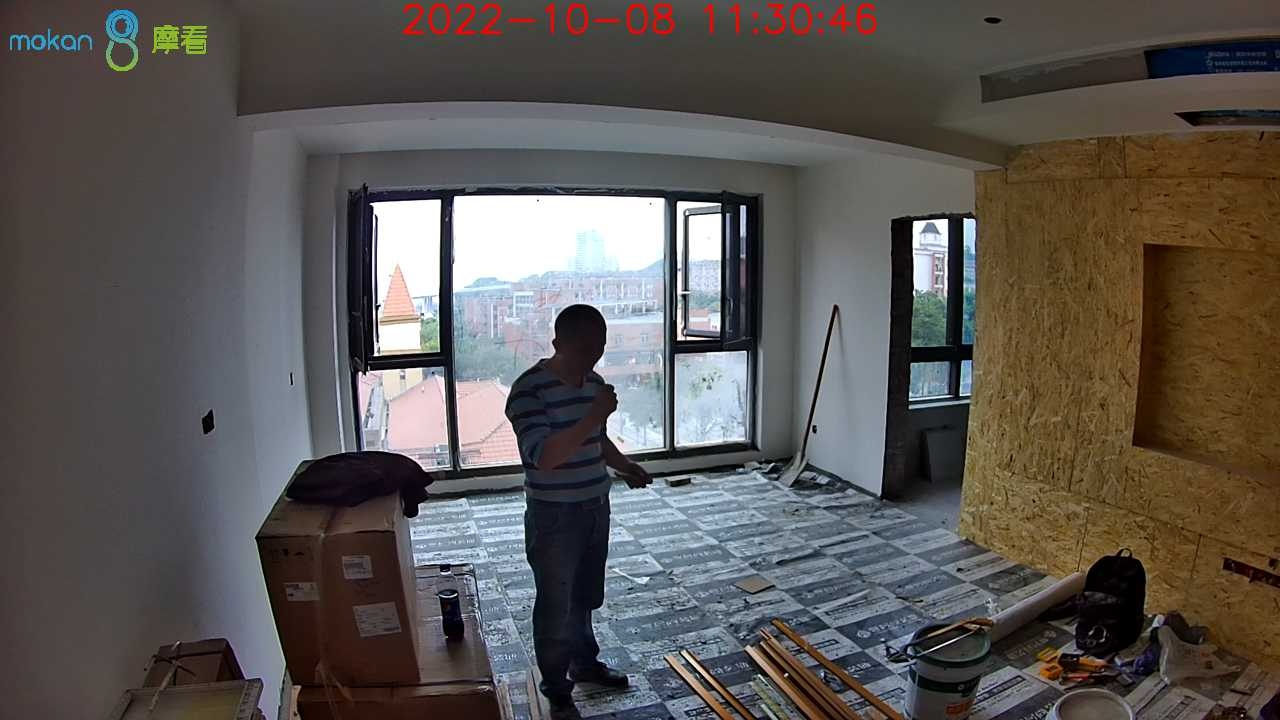people: (505, 304, 654, 720)
window: (350, 186, 759, 473)
